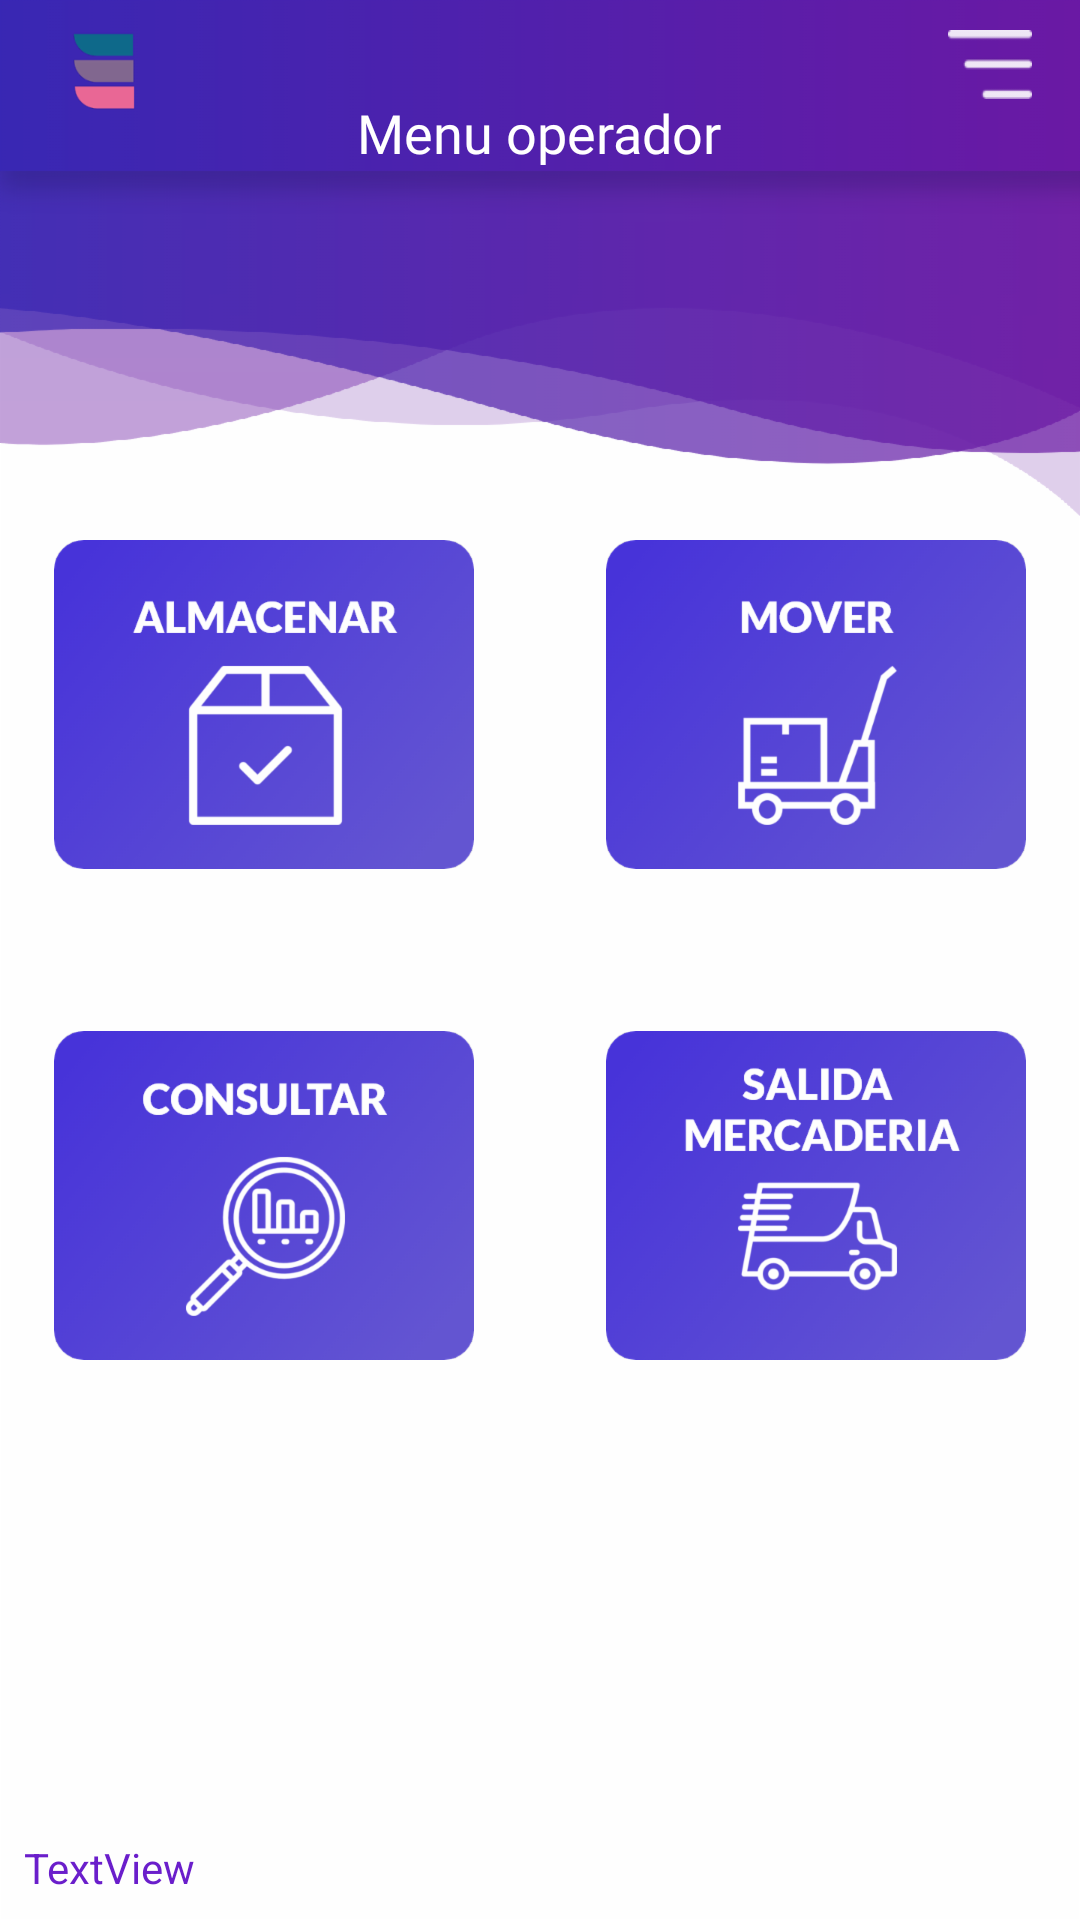

Icons on this 1080×1920 Android screen, each with the point to tap as point (x, y):
menuburger: point (990, 64)
